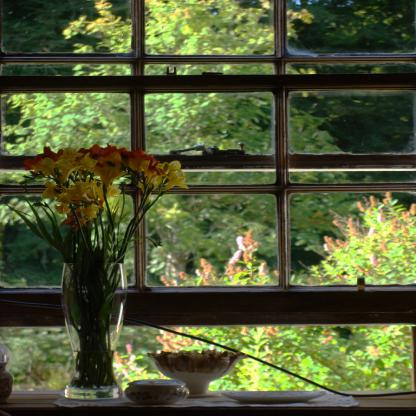vase: (60, 261, 128, 403)
